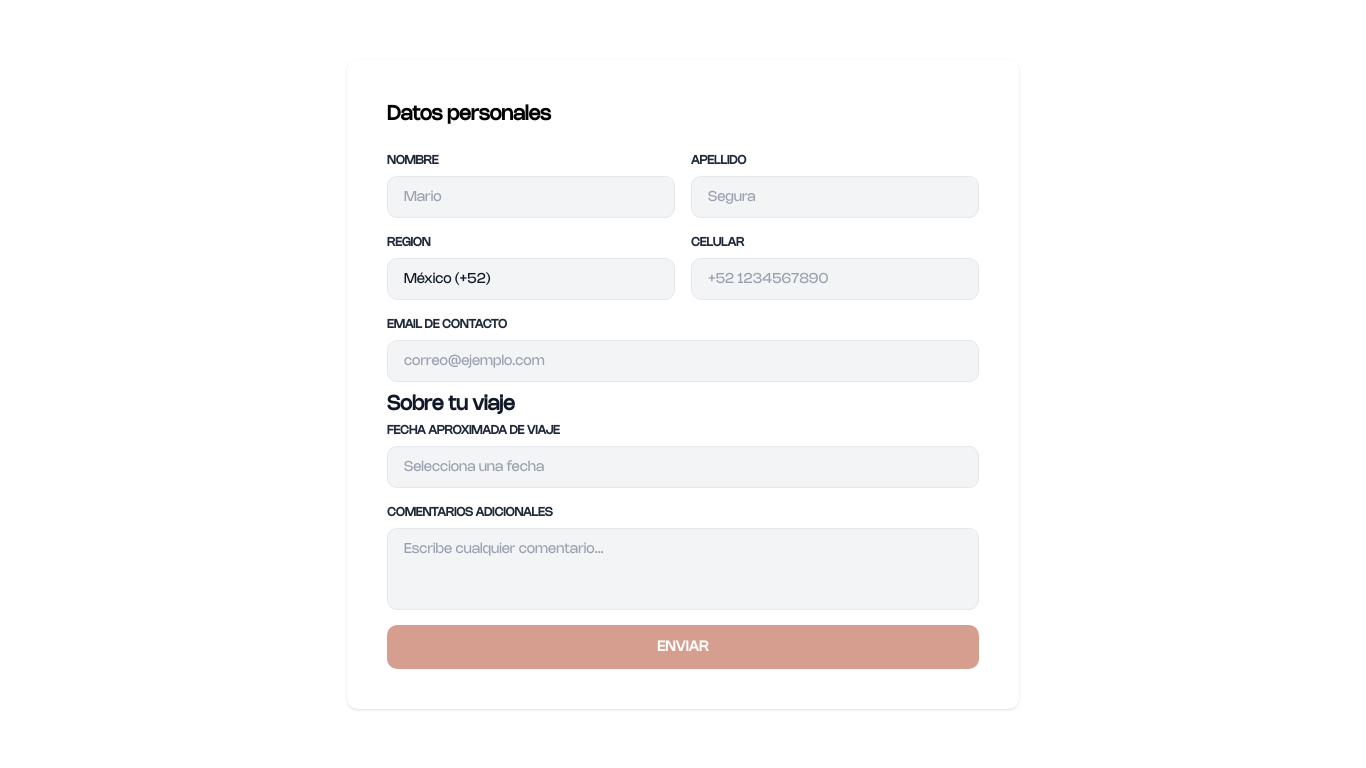
it: Contacto Form Component › 6. should open and close date picker modal
Expected: the text "selecciona tu fecha de viaje" is not shown
Note: Click to open modal
Click the field with placeholder "Selecciona una fecha" at x=683, y=466, box [387,446,979,488]
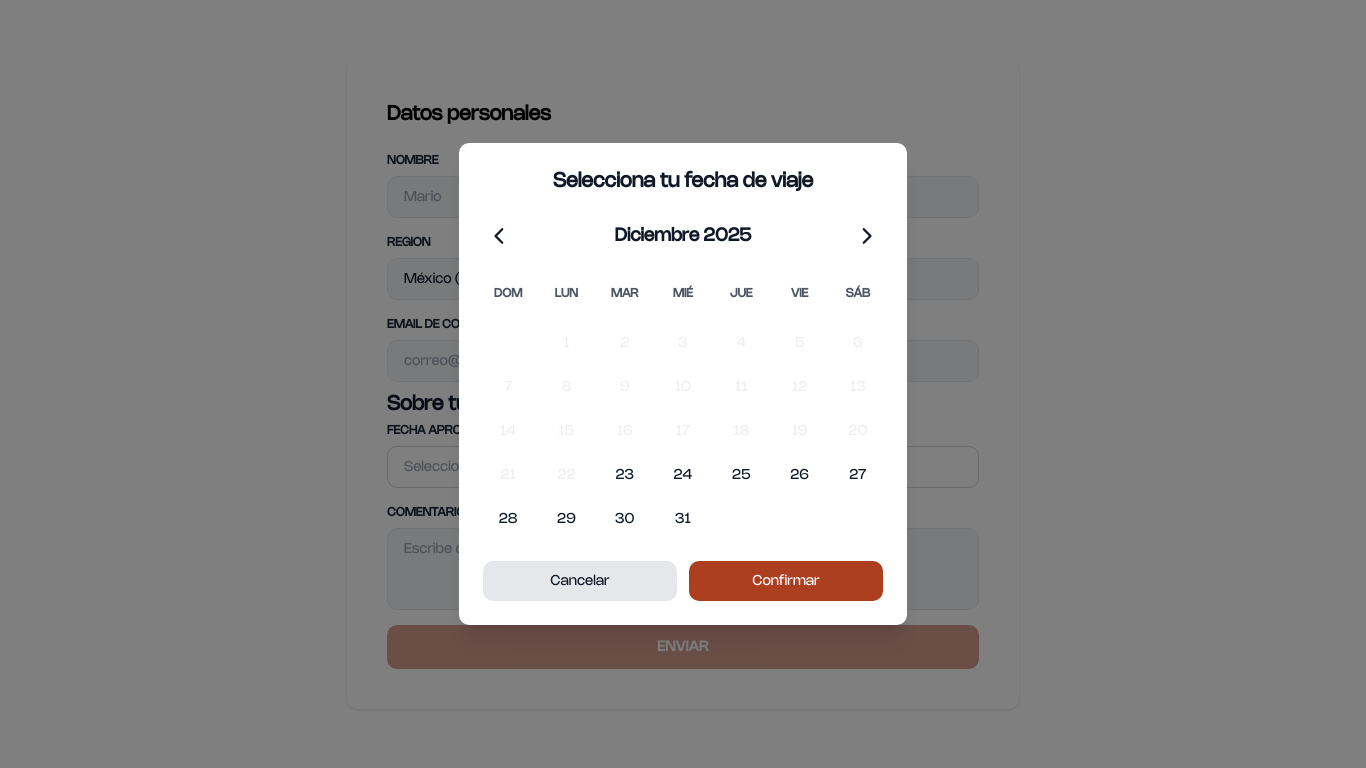
Now the heading "Selecciona tu fecha de viaje" is shown, box [553,171,813,191]
Note: Click cancel button to close
Click the button "Cancelar" at x=580, y=581, box [483,561,677,601]
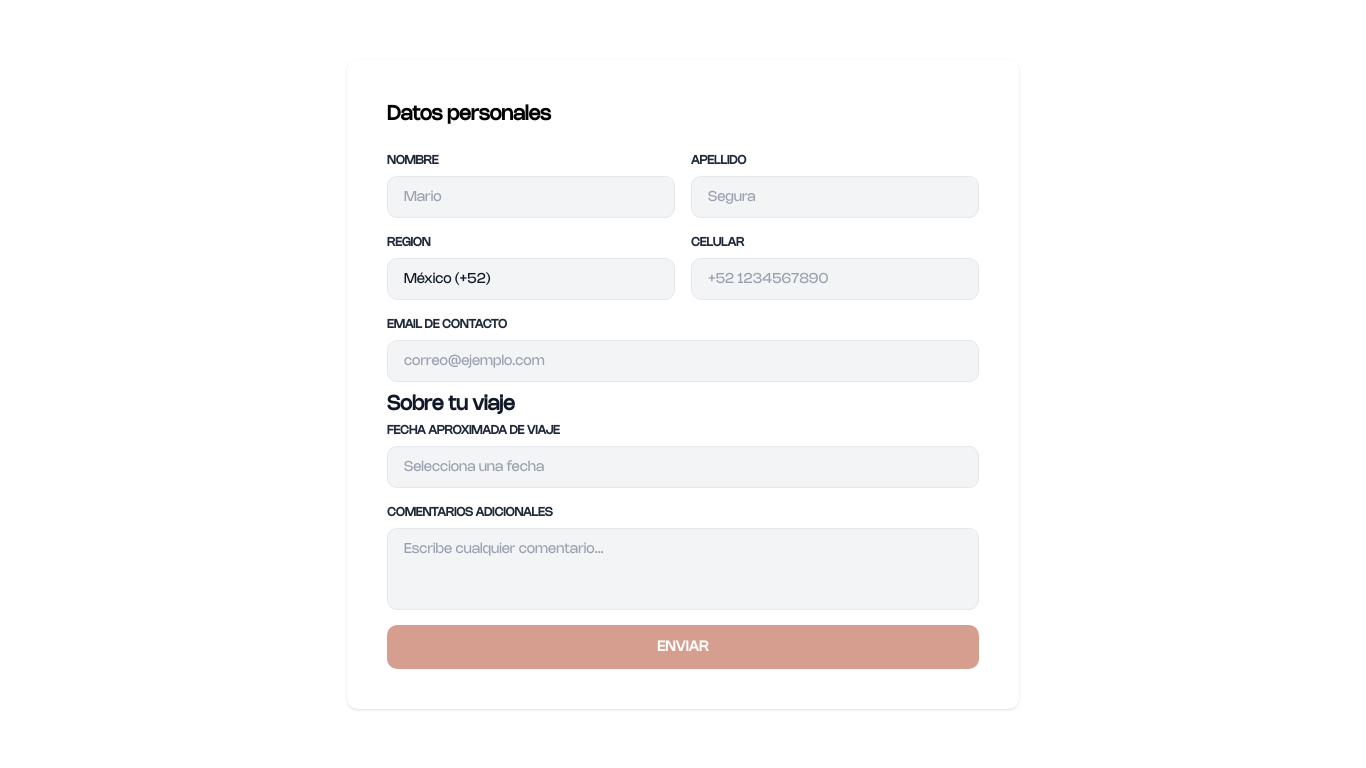
Now the heading "Selecciona tu fecha de viaje" is gone
